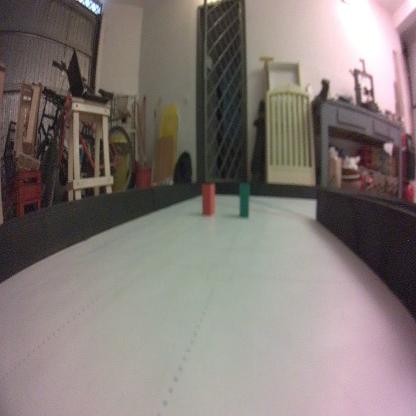green: (238, 180, 249, 216)
red: (200, 181, 216, 218)
